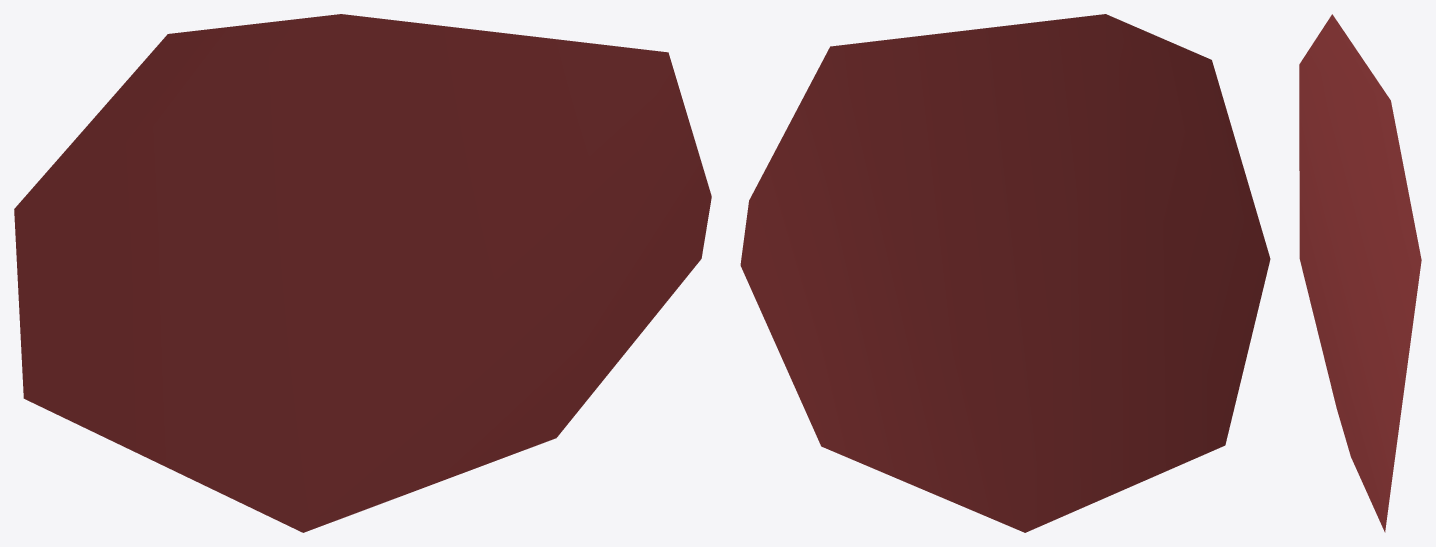
The model's file is geniohyoid-muscle-or.glb.
3 renders of one model, left to right at view 1: azimuth 30°, elevation 25°; view 2: azimuth 150°, elevation 25°; view 3: azimuth 270°, elevation 25°, orthographic. The views are drawn at different scales.
Visible parts, largest first — view 1: Geniohyoid muscle.or; view 2: Geniohyoid muscle.or; view 3: Geniohyoid muscle.or.
Boxes of the visible parts, <box> form: Geniohyoid muscle.or: <box>14,14,711,532</box>; Geniohyoid muscle.or: <box>740,14,1270,532</box>; Geniohyoid muscle.or: <box>1299,14,1421,532</box>.
Bounding box in the file's own units: 0.0029 × 0.00242 × 0.000668.
